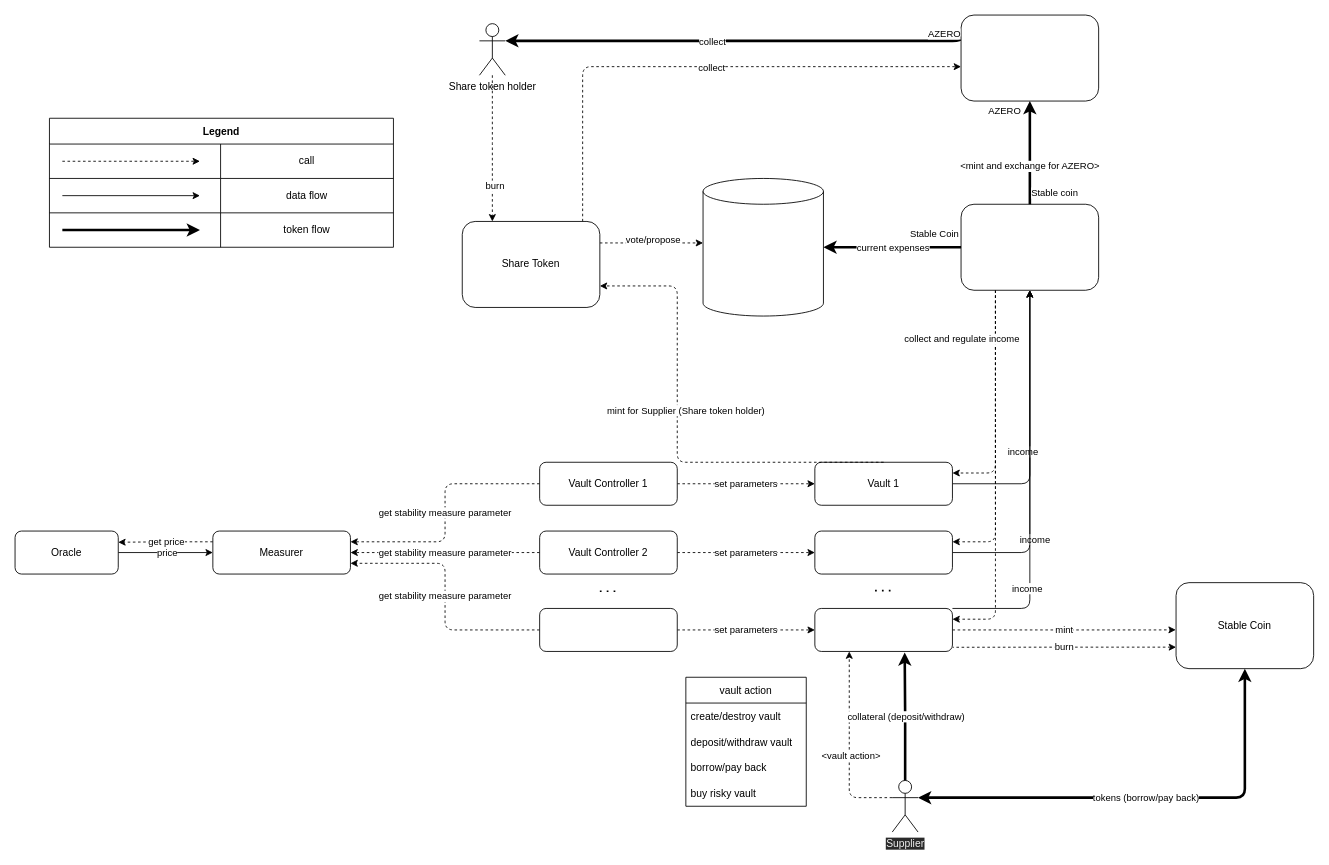
The diagram is 1329 pixels wide and 865 high, and some of its shapes have lost their labels. The box of each missing label's shape, as (x1, y1, x2, y2) in pixels:
DAO (owner): (702, 178, 823, 316)
Income controller: (960, 203, 1099, 290)
Treasury: (960, 14, 1099, 101)
Vault 2: (814, 530, 952, 574)
Vault Controller N: (539, 608, 677, 651)
Vault N: (814, 608, 952, 651)
